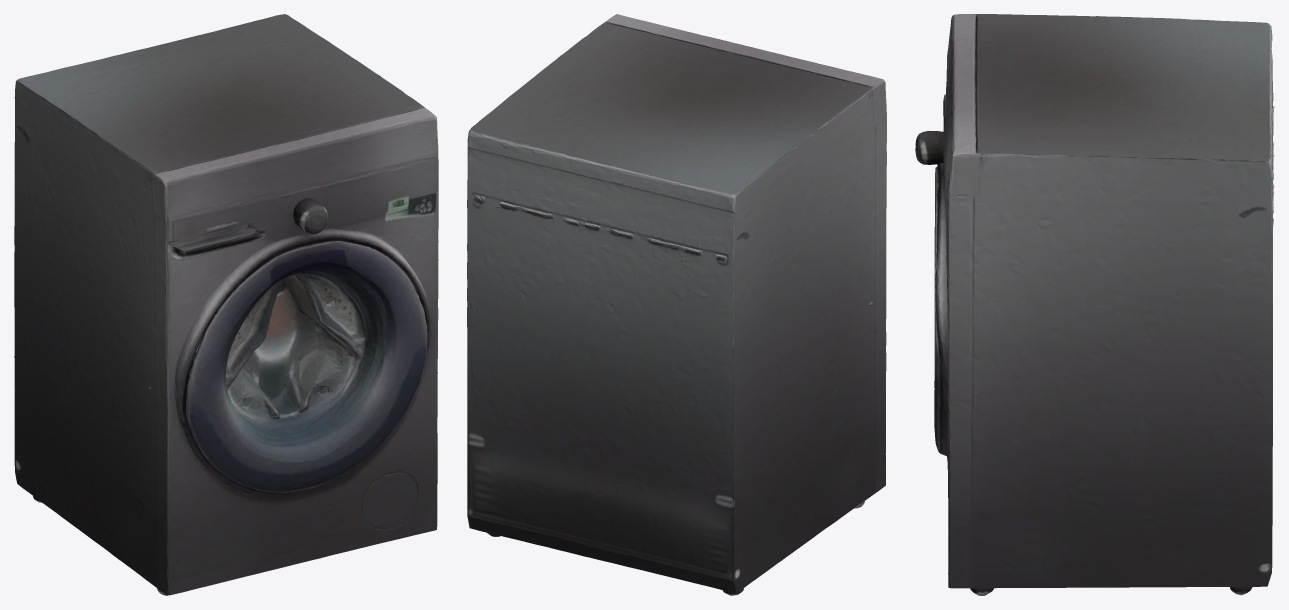
File: ast_47483320f59c.glb
3 views of the same model, side by side, from view 1: azimuth 30°, elevation 25°; view 2: azimuth 150°, elevation 25°; view 3: azimuth 270°, elevation 25° (orthographic). The views are drawn at different scales.
Visible parts, largest first — view 1: geometry_0; view 2: geometry_0; view 3: geometry_0.
Part boxes in pixels (x1,y1,x2,y2): geometry_0: (14,14,438,595); geometry_0: (467,14,886,595); geometry_0: (915,14,1274,595).
Bounding box in the file's own units: 0.6683 × 0.9945 × 0.719.
Materials: 1 (1 with a texture image).
